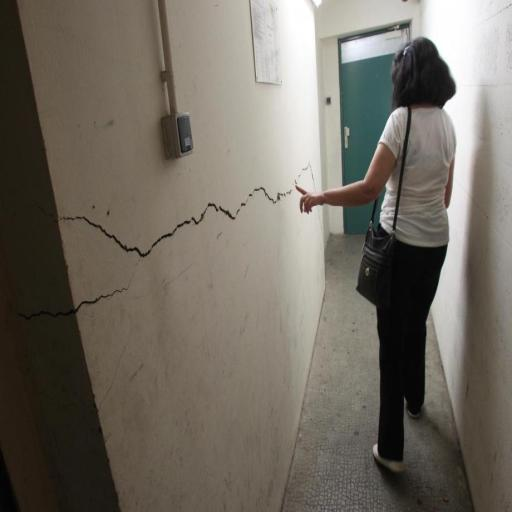spalling: (66, 180, 289, 265), (77, 278, 128, 313)
